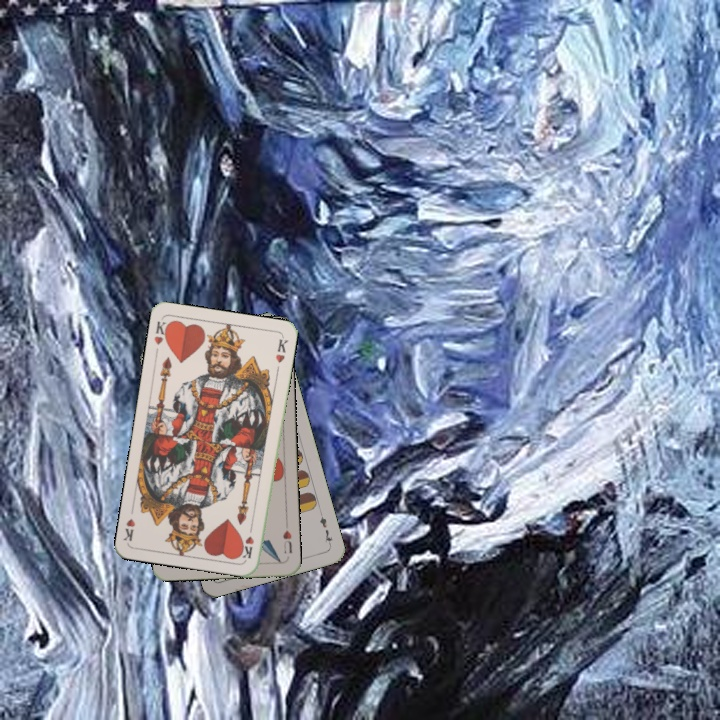E7: (316, 508, 335, 548)
HK: (238, 521, 257, 561), (150, 317, 172, 347)
HU: (279, 526, 294, 556)
